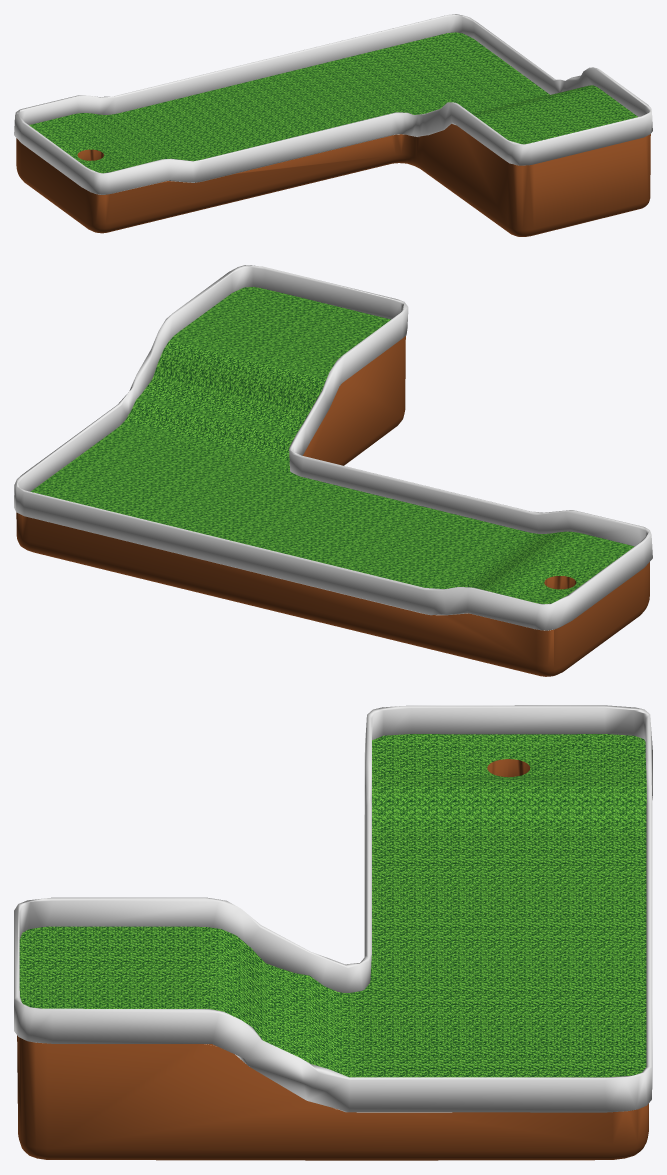
3 renders of one model, top to bottom at view 1: azimuth 30°, elevation 25°; view 2: azimuth 150°, elevation 25°; view 3: azimuth 270°, elevation 25°, orthographic. The views are drawn at different scales.
Parts seen in each view (by area): view 1: MiniCourse; view 2: MiniCourse; view 3: MiniCourse.
Part boxes in pixels (<box>): MiniCourse: <box>14,14,652,236</box>; MiniCourse: <box>14,265,652,676</box>; MiniCourse: <box>14,705,652,1160</box>.
Size of the model in its own units: 12.09 by 2.51 by 9.09.
Materials: 3 (1 with a texture image).
